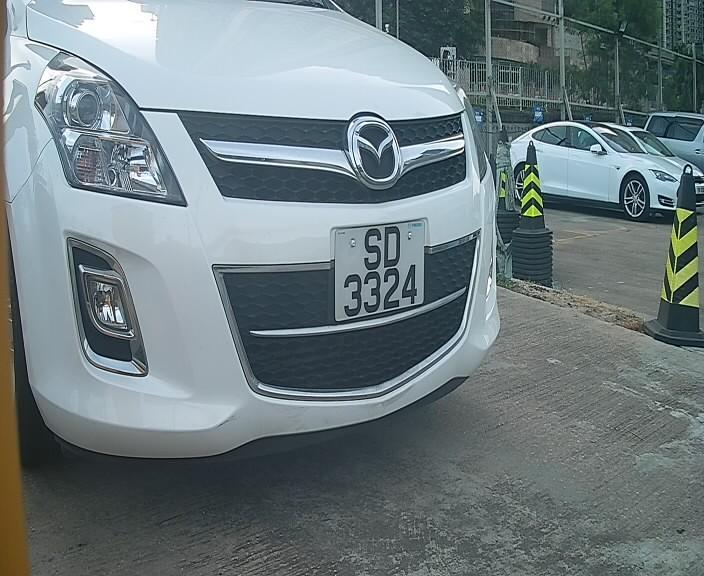privatecar: (19, 3, 516, 471)
